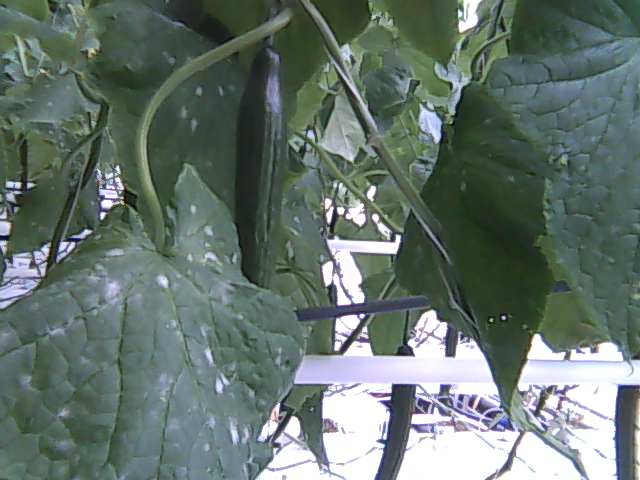concombre: (231, 42, 290, 287)
